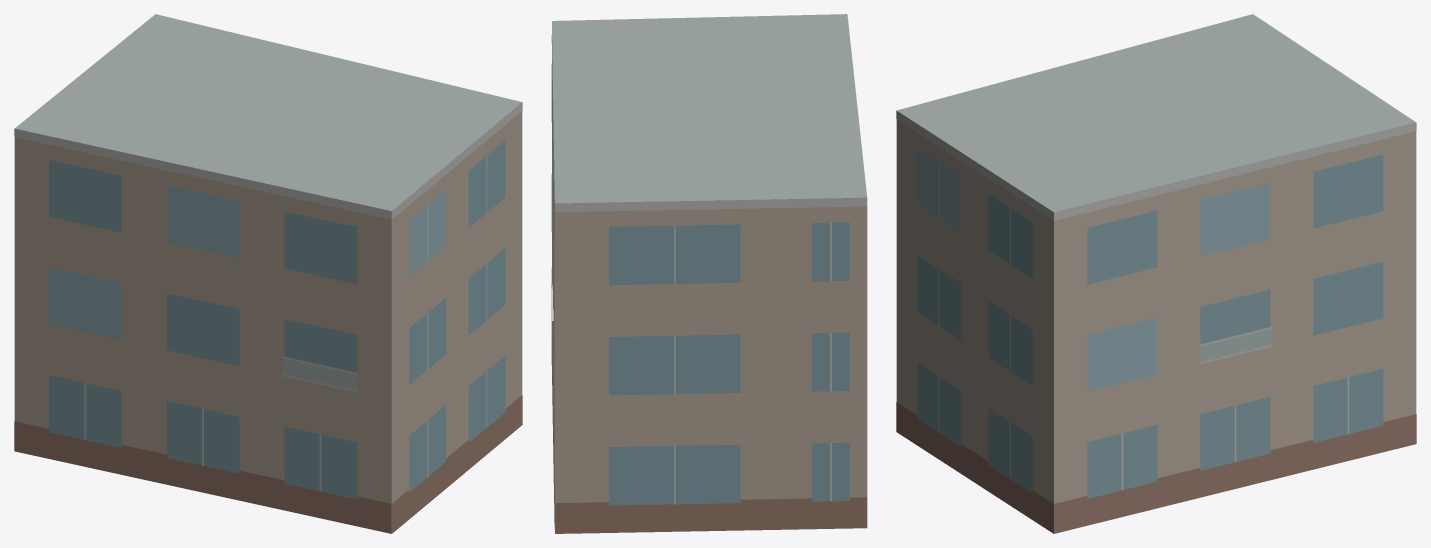
The model's file is survey-upis-32951078.glb.
3 views of the same model, side by side, from view 1: azimuth 30°, elevation 25°; view 2: azimuth 150°, elevation 25°; view 3: azimuth 270°, elevation 25° (orthographic). The views are drawn at different scales.
Visible parts, largest first — view 1: survey-upis-32951078.tmp; view 2: survey-upis-32951078.tmp; view 3: survey-upis-32951078.tmp.
Part boxes in pixels (<box>): survey-upis-32951078.tmp: <box>14,14,522,533</box>; survey-upis-32951078.tmp: <box>551,14,867,533</box>; survey-upis-32951078.tmp: <box>896,14,1416,533</box>.
Size of the model in its own units: 12.12 by 9.15 by 13.42.
